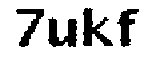7: (12, 4, 46, 51)
f: (115, 6, 142, 52)
k: (81, 4, 115, 53)
u: (47, 16, 81, 52)
